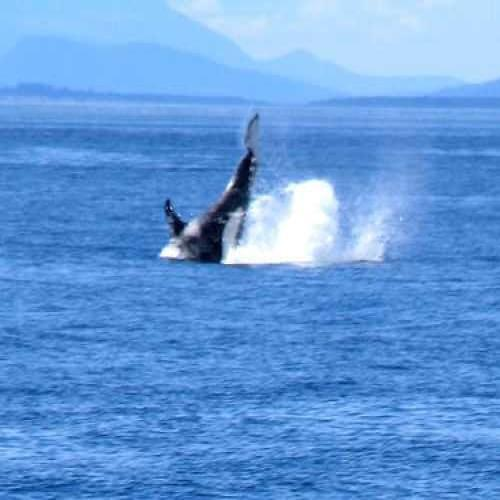killer_whale-endangered: (120, 93, 291, 297)
